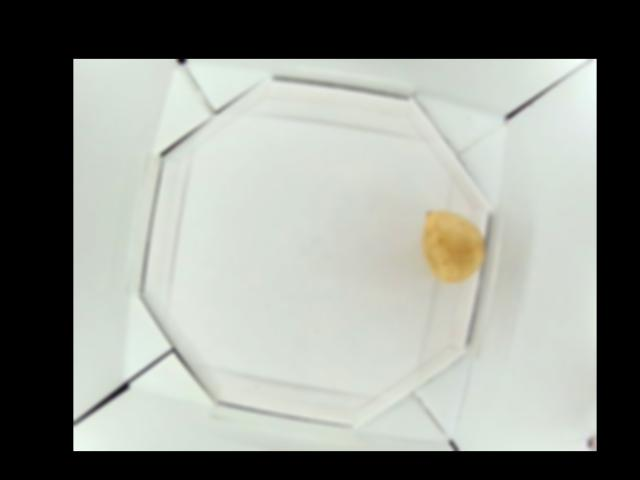Potato: (424, 206, 488, 281)
